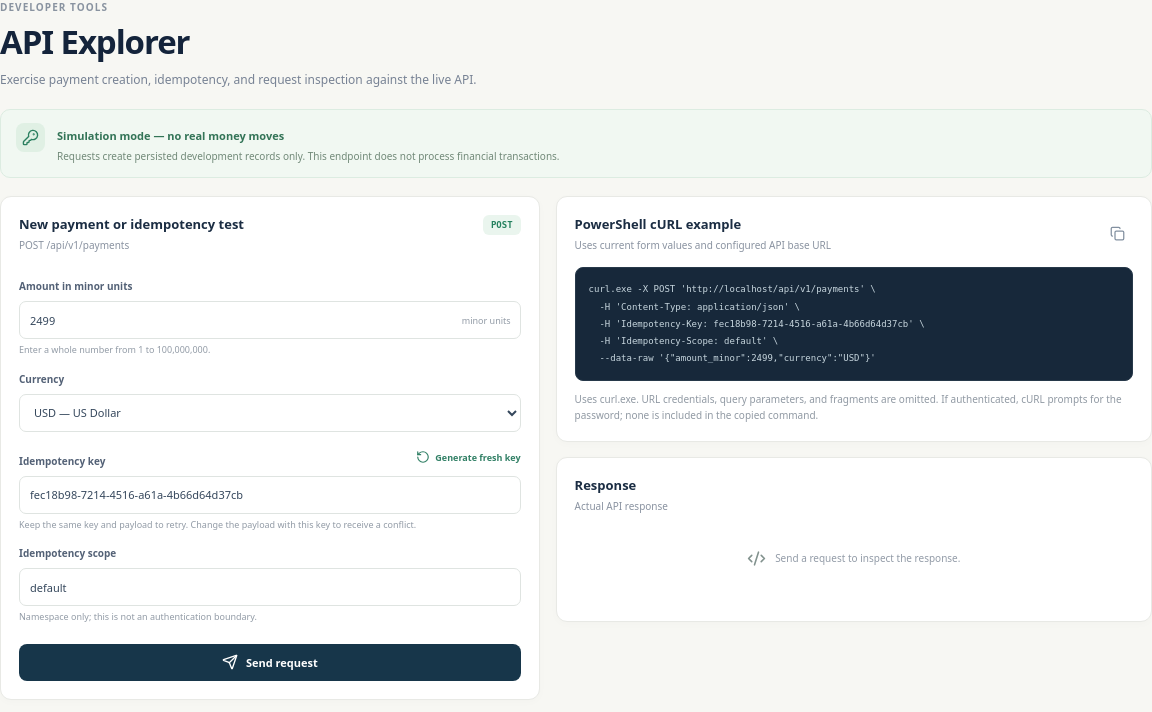
Test: API Explorer › shows unexpected server failures without a success-shaped result
Click the button "Send request": x=270, y=662 [19,644,521,681]
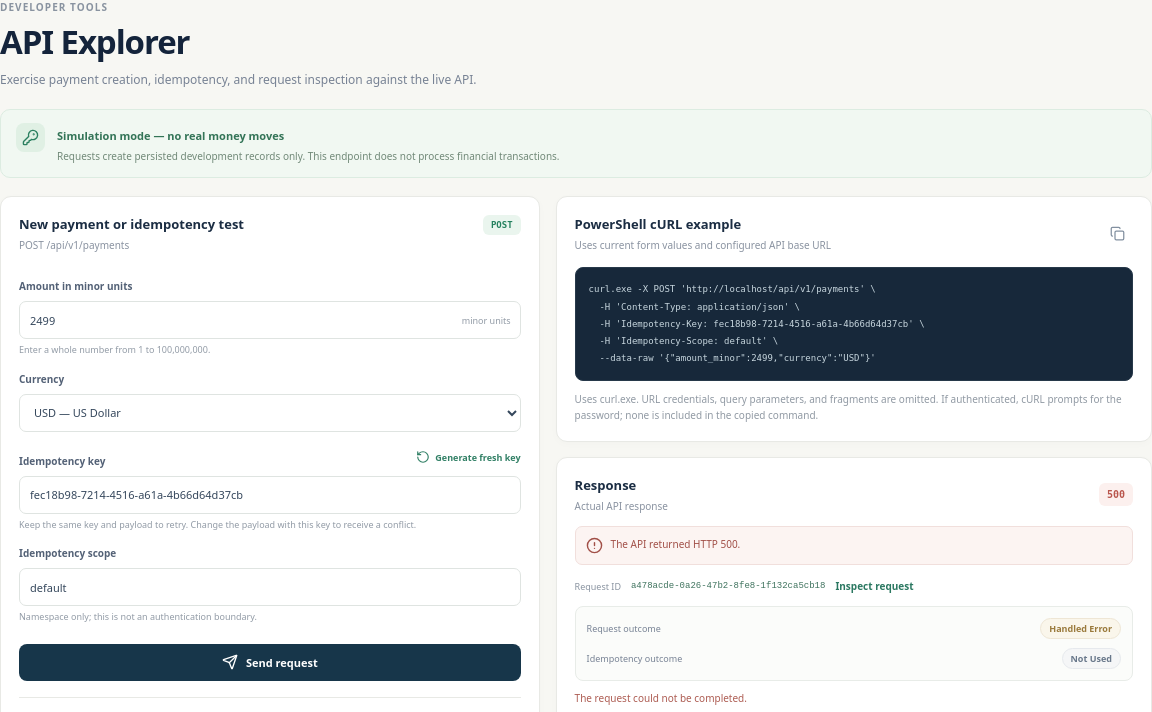
Check: the text "500" is shown, box [1099,483,1133,506]
Check: the text "The API returned HTTP 500." is shown, box [611,537,740,552]
